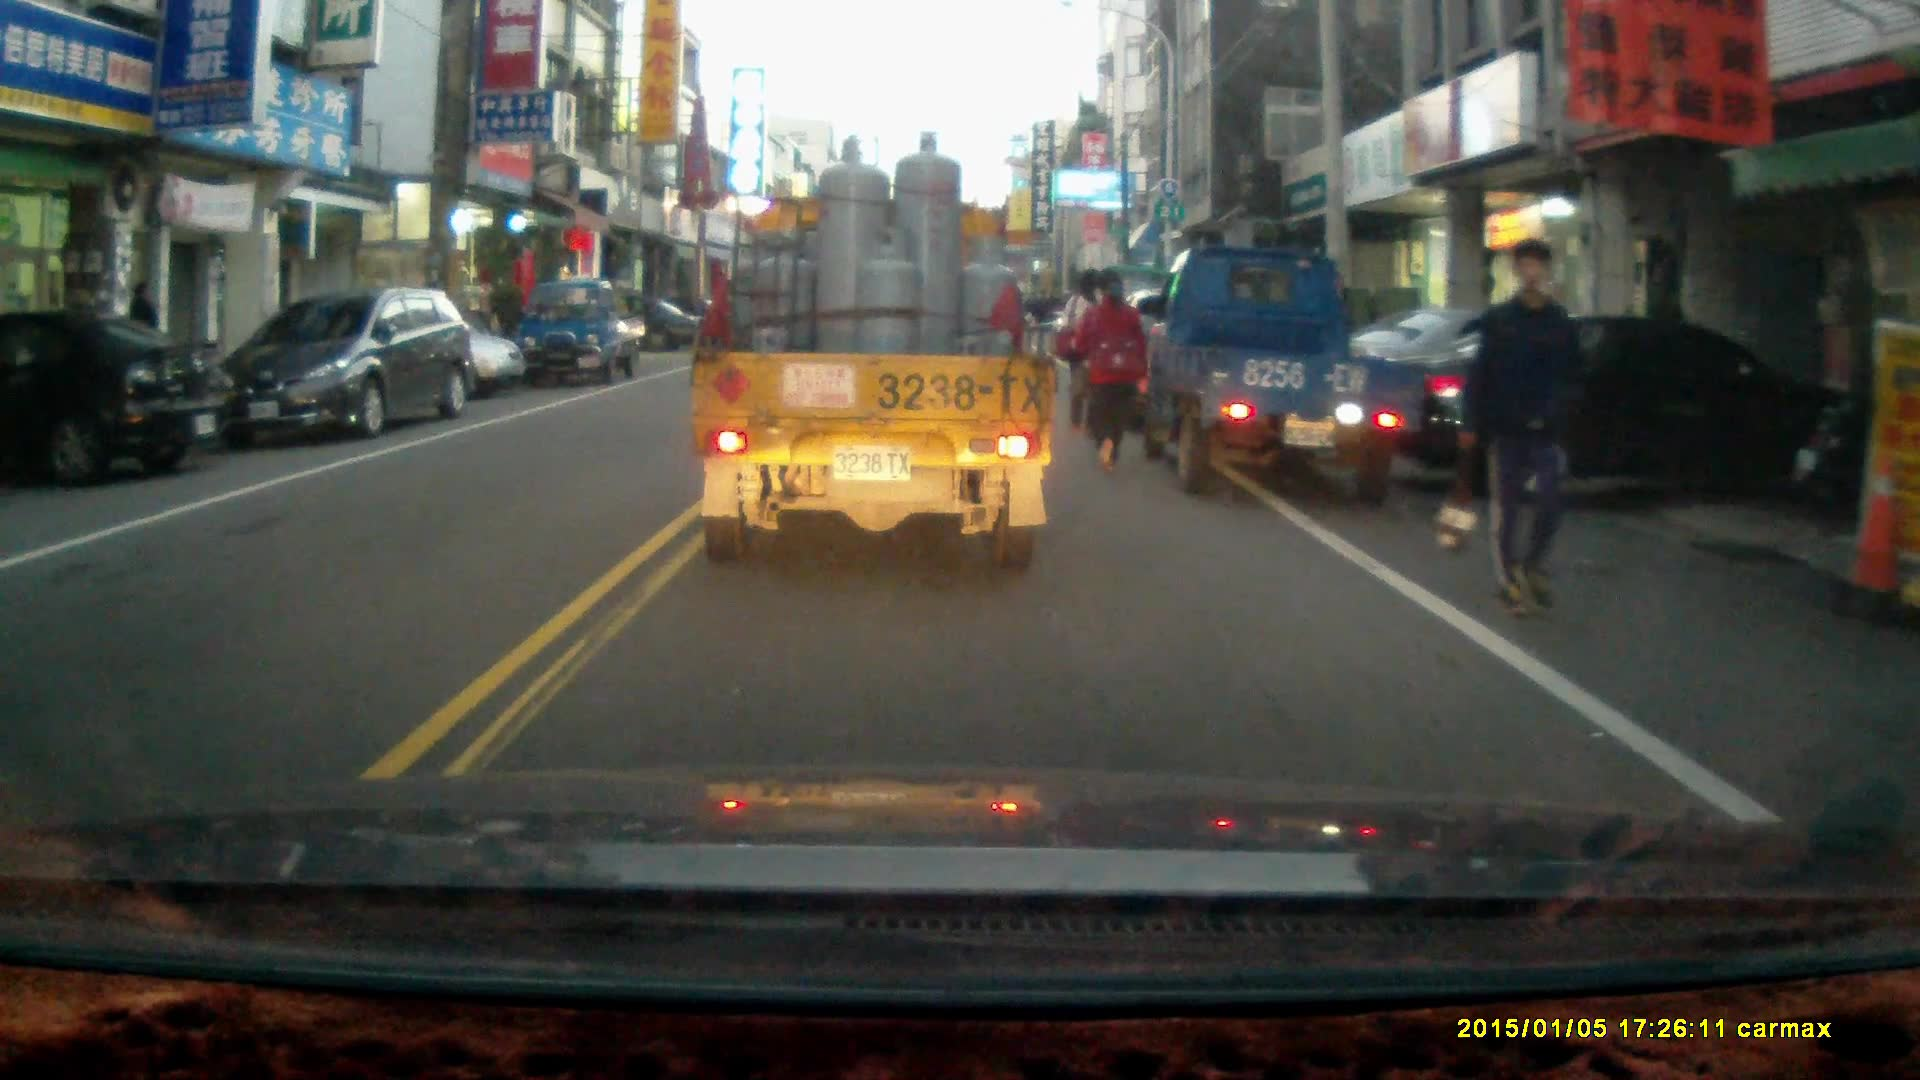pedestrian: (1460, 237, 1595, 628), (1068, 261, 1144, 467), (1057, 266, 1115, 429), (125, 278, 166, 377)
vehicle: (690, 134, 1061, 574), (1147, 246, 1430, 500), (207, 282, 483, 446), (1, 306, 234, 483), (257, 295, 530, 402), (520, 274, 650, 386)
